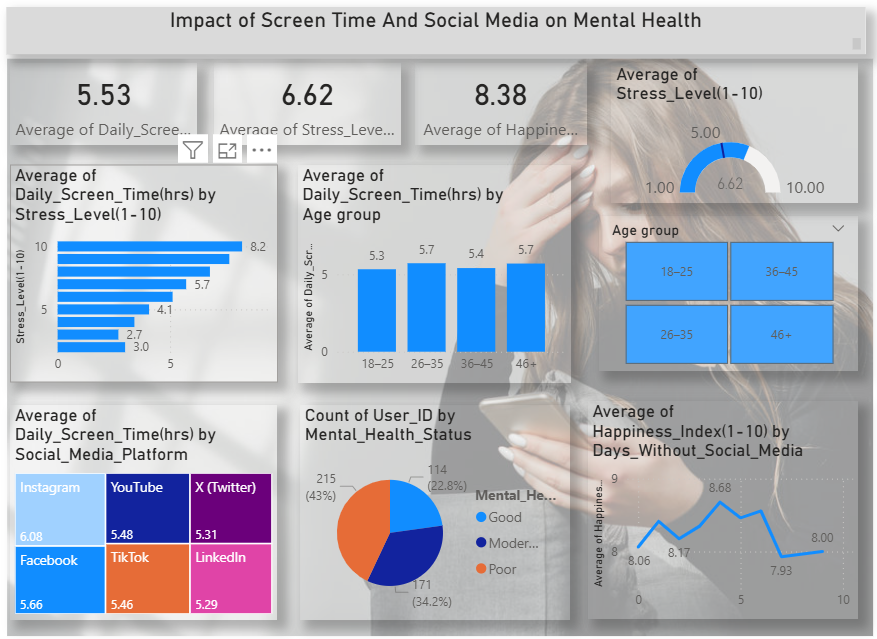

The dashboard page shown, as its layout file describes it:
{"tool":"powerbi","page":{"name":"Page 1","canvas":[1280,720],"ordinal":0},"visuals":[{"type":"card","fields":{"Values":["Avg(Mental_Health_and_Social_Media_Balance_Dataset.Daily_Screen_Time(hrs))"]},"box":[220,80,183.3,80],"z":1000},{"type":"card","fields":{"Values":["Avg(Mental_Health_and_Social_Media_Balance_Dataset.Stress_Level(1-10))"]},"box":[420,80,183.3,80],"z":2000},{"type":"clusteredBarChart","fields":{"Category":["Mental_Health_and_Social_Media_Balance_Dataset.Stress_Level(1-10)"],"Y":["Avg(Mental_Health_and_Social_Media_Balance_Dataset.Daily_Screen_Time(hrs))"]},"box":[220,178.6,261.4,212.9],"z":4000},{"type":"lineChart","fields":{"Category":["Mental_Health_and_Social_Media_Balance_Dataset.Days_Without_Social_Media"],"Y":["Avg(Mental_Health_and_Social_Media_Balance_Dataset.Happiness_Index(1-10))"]},"box":[785,410,265,213.3],"z":5000},{"type":"clusteredColumnChart","fields":{"Category":["Mental_Health_and_Social_Media_Balance_Dataset.Age group"],"Y":["Avg(Mental_Health_and_Social_Media_Balance_Dataset.Daily_Screen_Time(hrs))"]},"box":[501.7,178.3,268.3,213.3],"z":6000},{"type":"treemap","fields":{"Group":["Mental_Health_and_Social_Media_Balance_Dataset.Social_Media_Platform"],"Values":["Avg(Mental_Health_and_Social_Media_Balance_Dataset.Daily_Screen_Time(hrs))"]},"box":[220,412.9,261.4,210],"z":7000},{"type":"pieChart","fields":{"Category":["Mental_Health_and_Social_Media_Balance_Dataset.Mental_Health_Status"],"Y":["CountNonNull(Mental_Health_and_Social_Media_Balance_Dataset.User_ID)"]},"box":[504.3,412.9,264.3,210],"z":8000},{"type":"card","fields":{"Values":["Avg(Mental_Health_and_Social_Media_Balance_Dataset.Happiness_Index(1-10))"]},"box":[616.7,80,168.3,80],"z":9000},{"type":"slicer","fields":{"Values":["Mental_Health_and_Social_Media_Balance_Dataset.Age group"]},"box":[796.7,228.3,253.3,151.7],"z":9001},{"type":"gauge","fields":{"Y":["Avg(Mental_Health_and_Social_Media_Balance_Dataset.Stress_Level(1-10))"]},"box":[808.3,80,241.7,136.7],"z":9002},{"type":"textbox","title":"Impact of Screen Time And Social Media on Mental Health","box":[216.7,24.2,840.8,46.7],"z":9003}]}

Visuals, with their boxes on the page's 1280x720 design canvas (x1, y1, x2, y2). These are canvas units, not pixel positions in the 877x639 screenshot, which may show the page scaled, cropped or inside an application window:
card - Avg(Mental_Health_and_Social_Media_Balance_Dataset.Daily_Screen_Time(hrs)): (left=220, top=80, right=403, bottom=160)
card - Avg(Mental_Health_and_Social_Media_Balance_Dataset.Stress_Level(1-10)): (left=420, top=80, right=603, bottom=160)
clusteredBarChart - Mental_Health_and_Social_Media_Balance_Dataset.Stress_Level(1-10) x Avg(Mental_Health_and_Social_Media_Balance_Dataset.Daily_Screen_Time(hrs)): (left=220, top=179, right=481, bottom=392)
lineChart - Mental_Health_and_Social_Media_Balance_Dataset.Days_Without_Social_Media x Avg(Mental_Health_and_Social_Media_Balance_Dataset.Happiness_Index(1-10)): (left=785, top=410, right=1050, bottom=623)
clusteredColumnChart - Mental_Health_and_Social_Media_Balance_Dataset.Age group x Avg(Mental_Health_and_Social_Media_Balance_Dataset.Daily_Screen_Time(hrs)): (left=502, top=178, right=770, bottom=392)
treemap - Mental_Health_and_Social_Media_Balance_Dataset.Social_Media_Platform x Avg(Mental_Health_and_Social_Media_Balance_Dataset.Daily_Screen_Time(hrs)): (left=220, top=413, right=481, bottom=623)
pieChart - Mental_Health_and_Social_Media_Balance_Dataset.Mental_Health_Status x CountNonNull(Mental_Health_and_Social_Media_Balance_Dataset.User_ID): (left=504, top=413, right=769, bottom=623)
card - Avg(Mental_Health_and_Social_Media_Balance_Dataset.Happiness_Index(1-10)): (left=617, top=80, right=785, bottom=160)
slicer - Mental_Health_and_Social_Media_Balance_Dataset.Age group: (left=797, top=228, right=1050, bottom=380)
gauge - Avg(Mental_Health_and_Social_Media_Balance_Dataset.Stress_Level(1-10)): (left=808, top=80, right=1050, bottom=217)
"Impact of Screen Time And Social Media on Mental Health" textbox: (left=217, top=24, right=1058, bottom=71)
